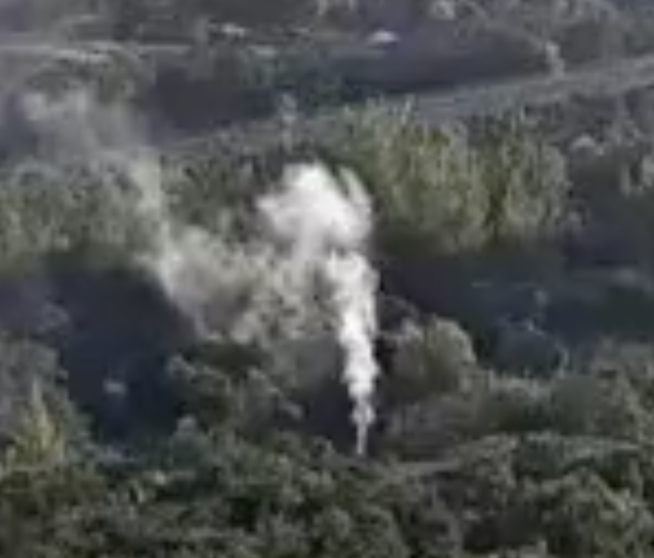smoke: (265, 161, 380, 462)
